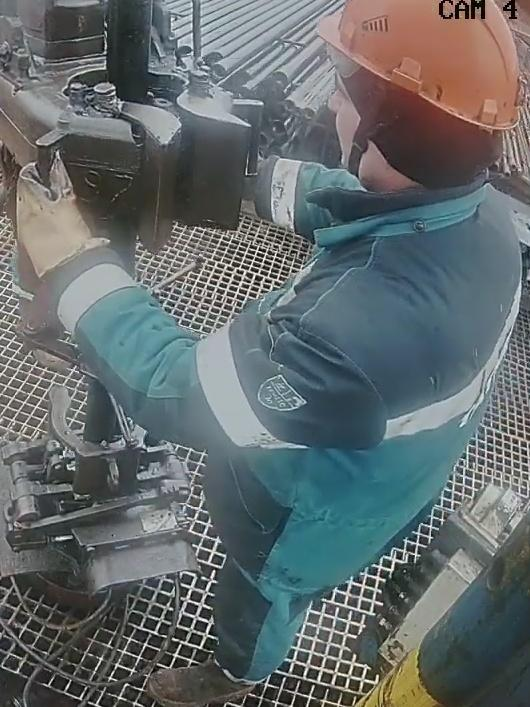gloves: (15, 151, 111, 297)
helmet: (315, 0, 520, 132)
vest: (196, 170, 524, 569)
